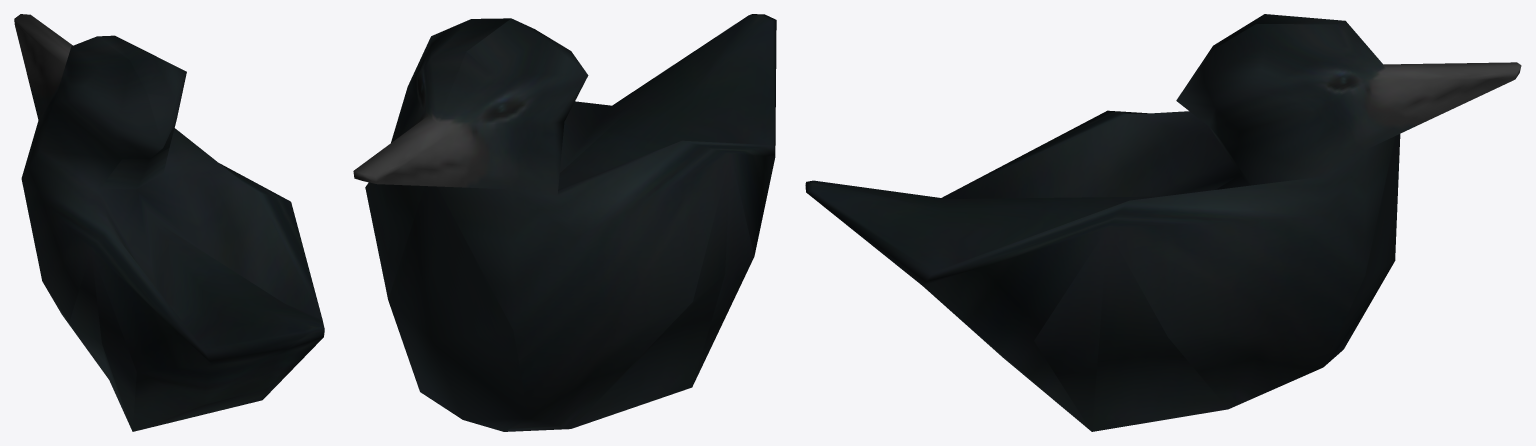
The model's file is duck_odin.fbx.
The picture shows the model from 3 angles, left to right: view 1: azimuth 30°, elevation 25°; view 2: azimuth 150°, elevation 25°; view 3: azimuth 270°, elevation 25°; orthographic projection. The views are drawn at different scales.
Visible parts, largest first — view 1: odin; view 2: odin; view 3: odin.
Part boxes in pixels (left/top/right/bottom): odin: left=14, top=14, right=324, bottom=431; odin: left=353, top=14, right=776, bottom=431; odin: left=805, top=14, right=1521, bottom=431.
Size of the model in its own units: 0.1213 by 0.1776 by 0.3115.
